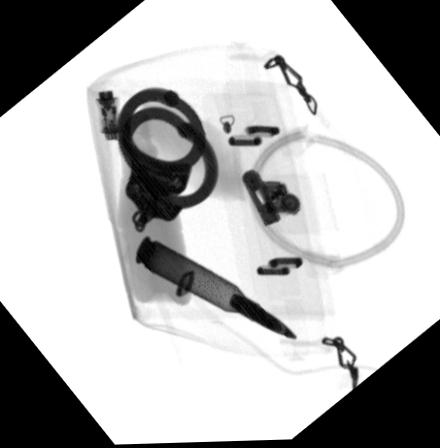Bullet: (133, 235, 299, 345)
HandCuffs: (114, 84, 220, 238)
